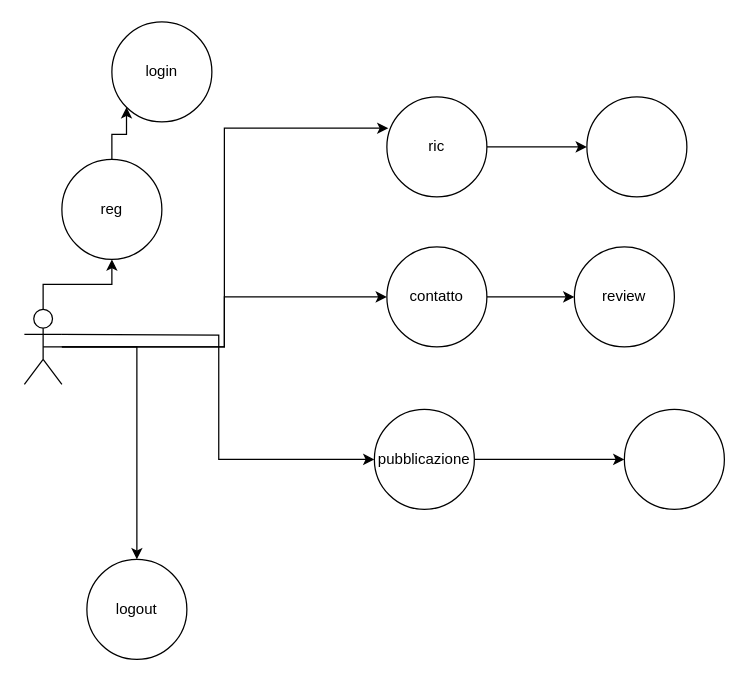
Image size: 746x681. Some labels were removed from this diagram. The shapes that lost their labels are listed below. From the top down, each one's box as (x1, y1, x2, y2) in pixels, then its label:
(586, 96, 687, 197): filtra
(23, 308, 62, 384): Clente
(623, 408, 724, 509): mod
